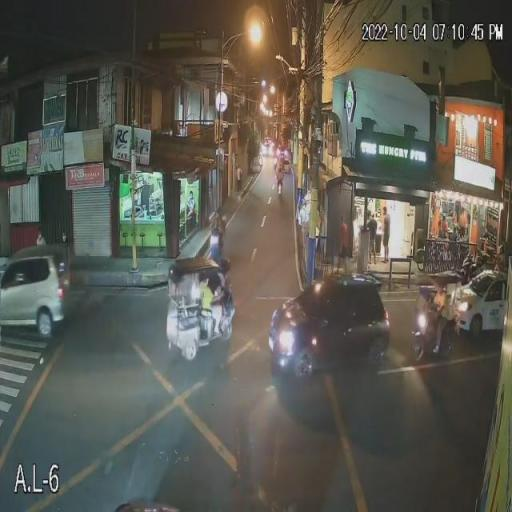motorcycle: (202, 230, 230, 260)
rider: (208, 202, 226, 236)
